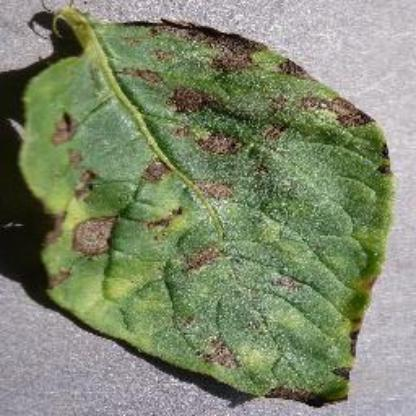Early-Blight: (4, 0, 416, 406)
